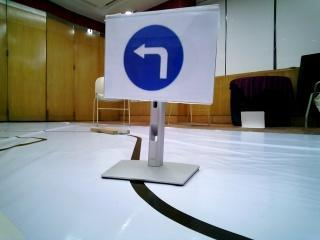left: (104, 17, 214, 101)
